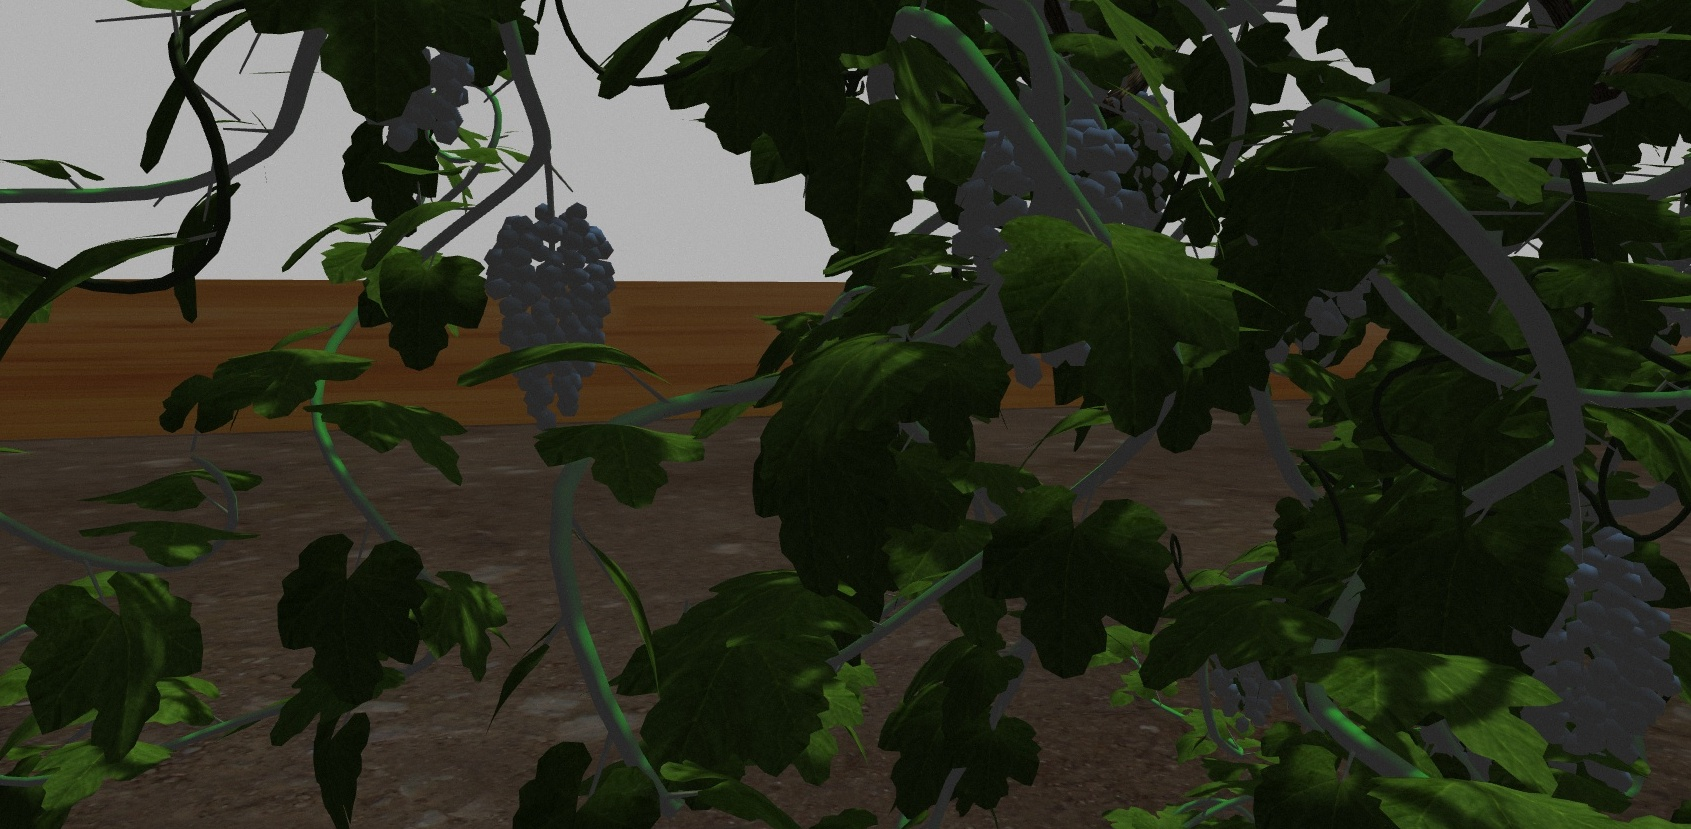grape: (957, 122, 1130, 373), (1517, 529, 1680, 791), (486, 206, 616, 431), (371, 59, 475, 151)
